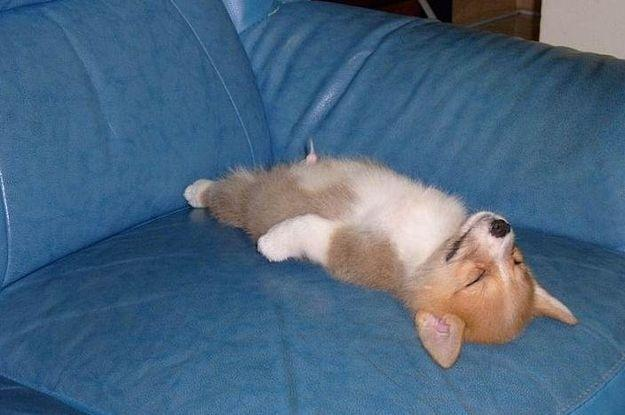puppy-dog: (183, 145, 579, 371)
